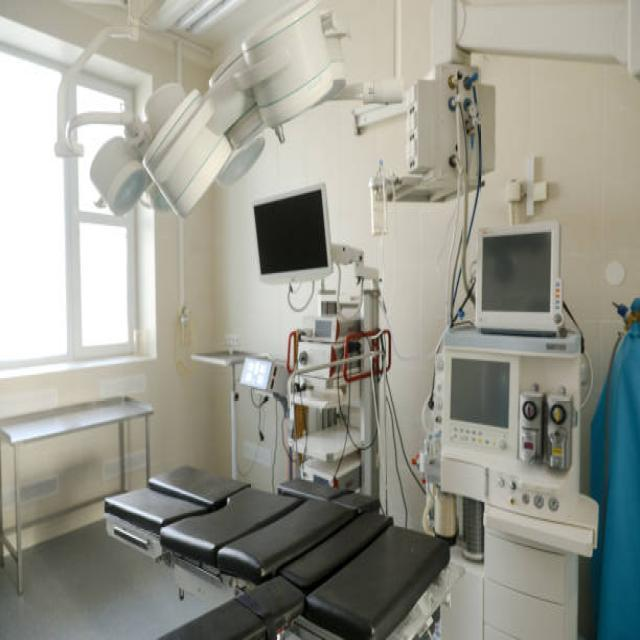Monitor: (0, 385, 158, 596), (438, 328, 592, 505), (244, 177, 354, 318), (468, 210, 580, 344)
bed: (98, 449, 448, 640)
